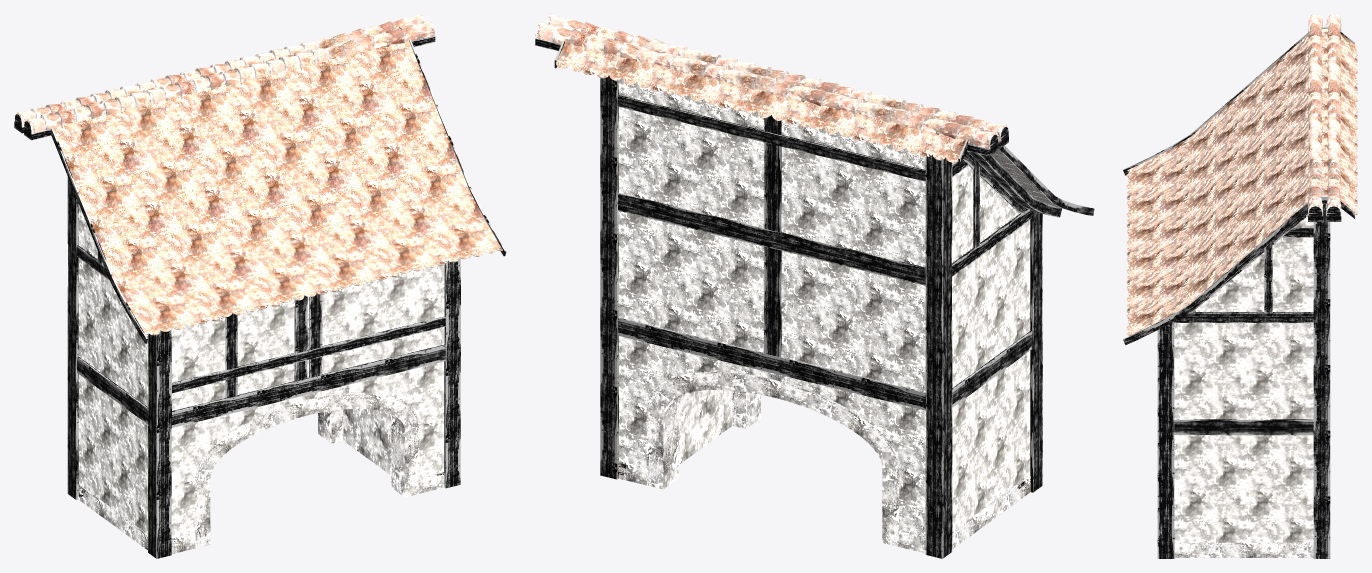
The picture shows the model from 3 angles, left to right: view 1: azimuth 30°, elevation 25°; view 2: azimuth 150°, elevation 25°; view 3: azimuth 270°, elevation 25°; orthographic projection. The views are drawn at different scales.
Parts seen in each view (by area): view 1: SM_arch_02_LOD0; view 2: SM_arch_02_LOD0; view 3: SM_arch_02_LOD0.
Part boxes in pixels (box(x1,y1,x2,y2)): SM_arch_02_LOD0: box(14, 14, 506, 558); SM_arch_02_LOD0: box(535, 14, 1094, 558); SM_arch_02_LOD0: box(1123, 14, 1357, 558).
Bounding box in the file's own units: 1350 × 702 × 1250.
Materials: 8 (8 with a texture image).
